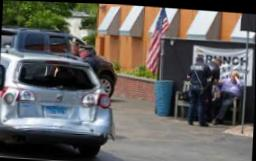Dickey: (17, 62, 100, 122)
Windshield: (18, 61, 99, 90)
